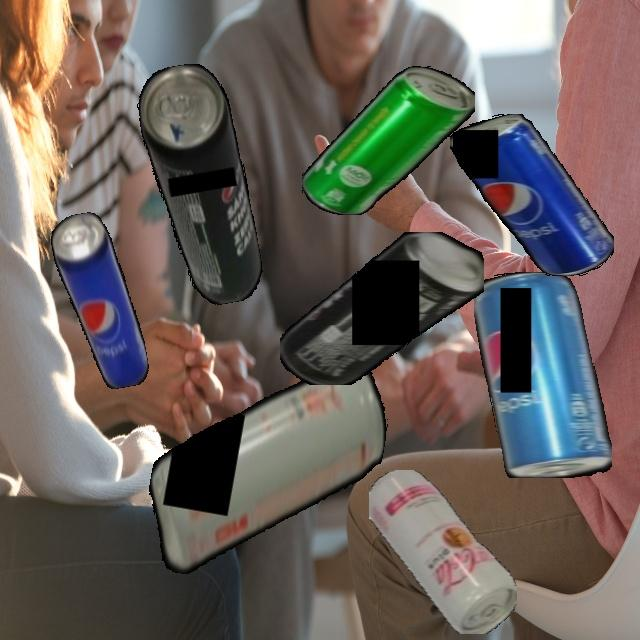debris: (136, 332, 397, 604), (132, 58, 267, 312), (280, 231, 484, 385), (474, 271, 612, 478), (449, 114, 614, 276), (302, 65, 475, 215), (369, 469, 517, 634), (48, 207, 151, 395)
